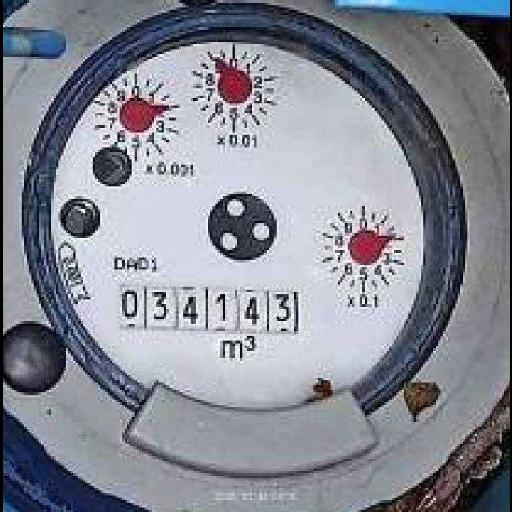0: (117, 289, 144, 328)
1: (209, 291, 236, 329)
3: (146, 289, 176, 326), (269, 291, 293, 331)
4: (240, 291, 267, 331), (180, 289, 205, 327)
border_water_meter_number: (116, 284, 300, 337)
